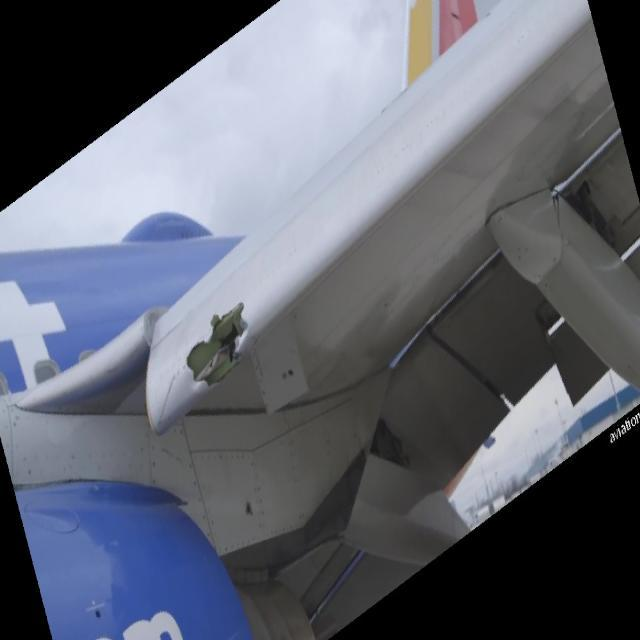crack: (185, 303, 252, 398)
